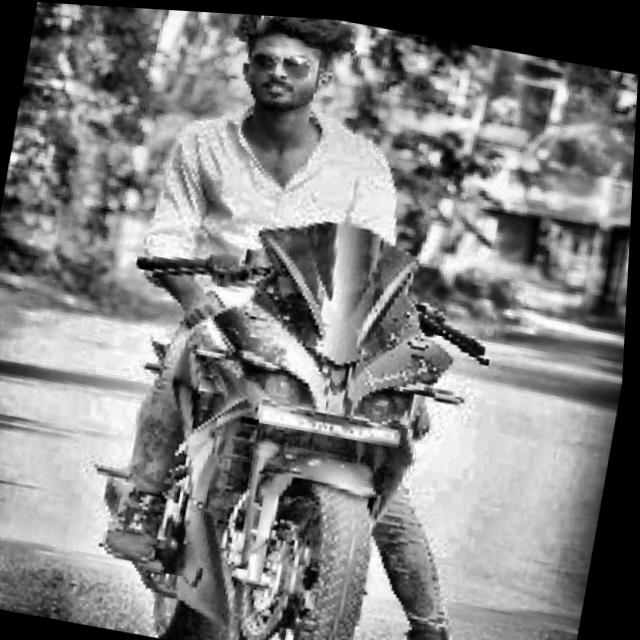motorcycle: (13, 172, 572, 640)
